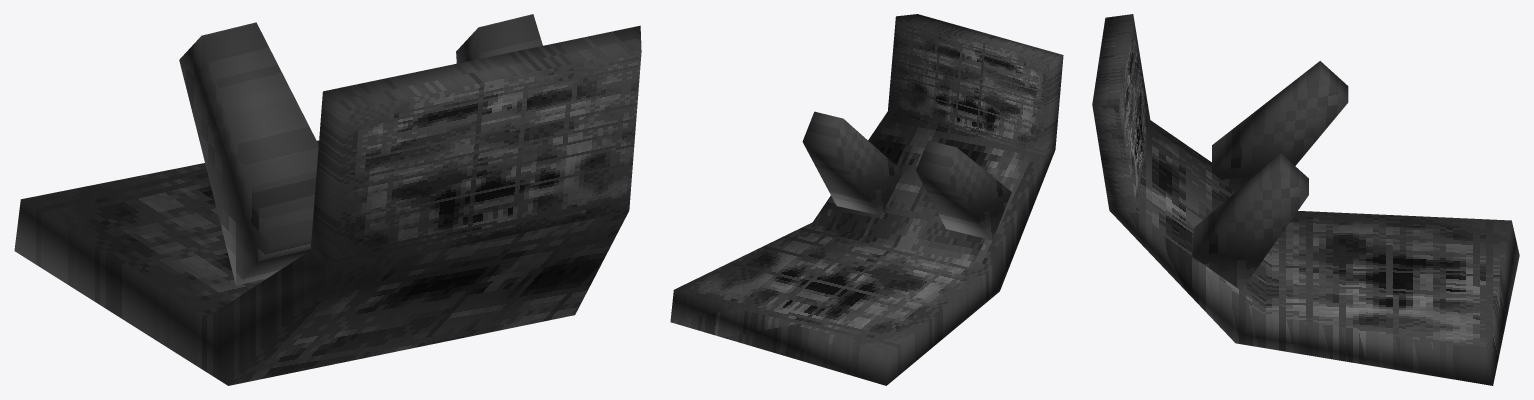
The model's file is Debris6.fbx.
3 views of the same model, side by side, from view 1: azimuth 30°, elevation 25°; view 2: azimuth 150°, elevation 25°; view 3: azimuth 270°, elevation 25° (orthographic). The views are drawn at different scales.
Parts seen in each view (by area): view 1: Debris6; view 2: Debris6; view 3: Debris6.
Boxes of the visible parts, box(x1,y1,x2,y2) form: Debris6: box(14, 14, 641, 385); Debris6: box(670, 14, 1063, 385); Debris6: box(1092, 14, 1519, 385).
Bounding box in the file's own units: 63.09 × 54.24 × 87.13.
